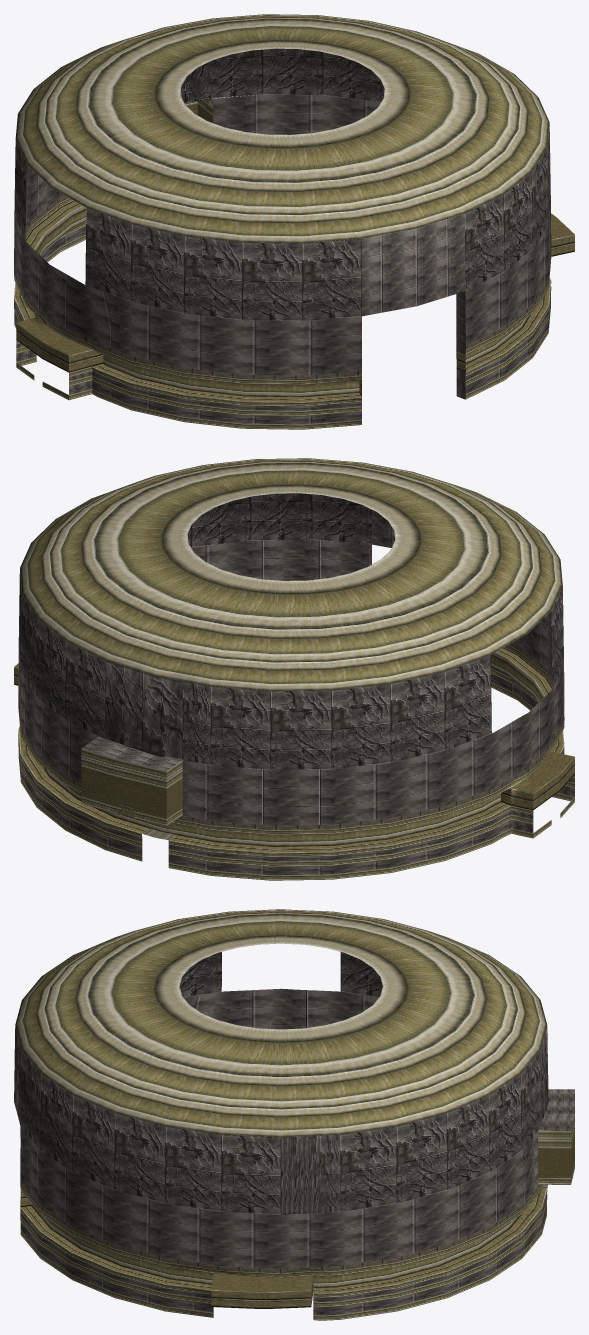
File: CH09_SMAUG_PLAYSURFACE_LAIR70.fbx
3 renders of one model, top to bottom at view 1: azimuth 30°, elevation 25°; view 2: azimuth 150°, elevation 25°; view 3: azimuth 270°, elevation 25°, orthographic. The views are drawn at different scales.
Visible parts, largest first — view 1: CH09_SMAUG_PLAYSURFACE_LAIR70; view 2: CH09_SMAUG_PLAYSURFACE_LAIR70; view 3: CH09_SMAUG_PLAYSURFACE_LAIR70.
Boxes of the visible parts, box(x1,y1,x2,y2) form: CH09_SMAUG_PLAYSURFACE_LAIR70: box(14, 14, 574, 429); CH09_SMAUG_PLAYSURFACE_LAIR70: box(14, 458, 574, 880); CH09_SMAUG_PLAYSURFACE_LAIR70: box(14, 909, 574, 1320).
Bounding box in the file's own units: 780462 × 326814 × 743398.
Materials: 7 (7 with a texture image).
